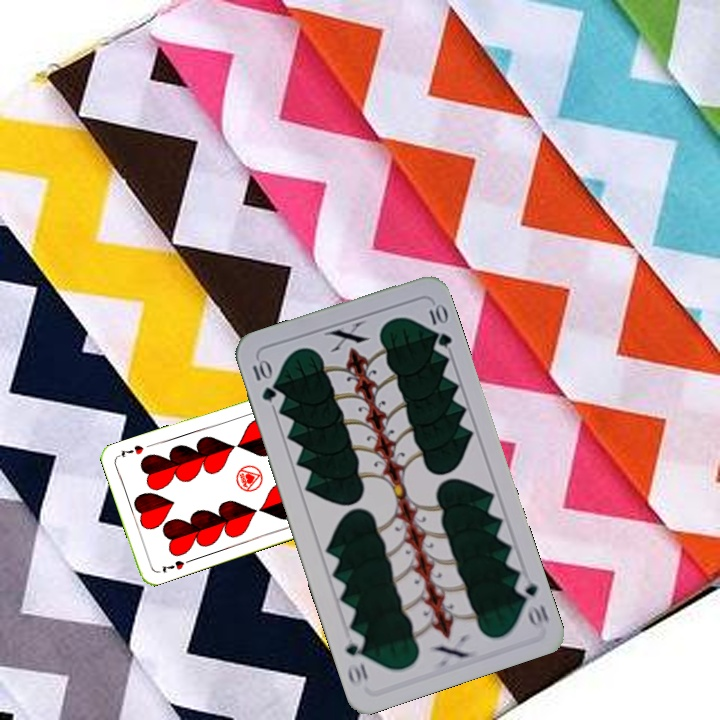G10: (511, 574, 552, 629), (248, 355, 279, 404)
H7: (158, 556, 187, 576)
